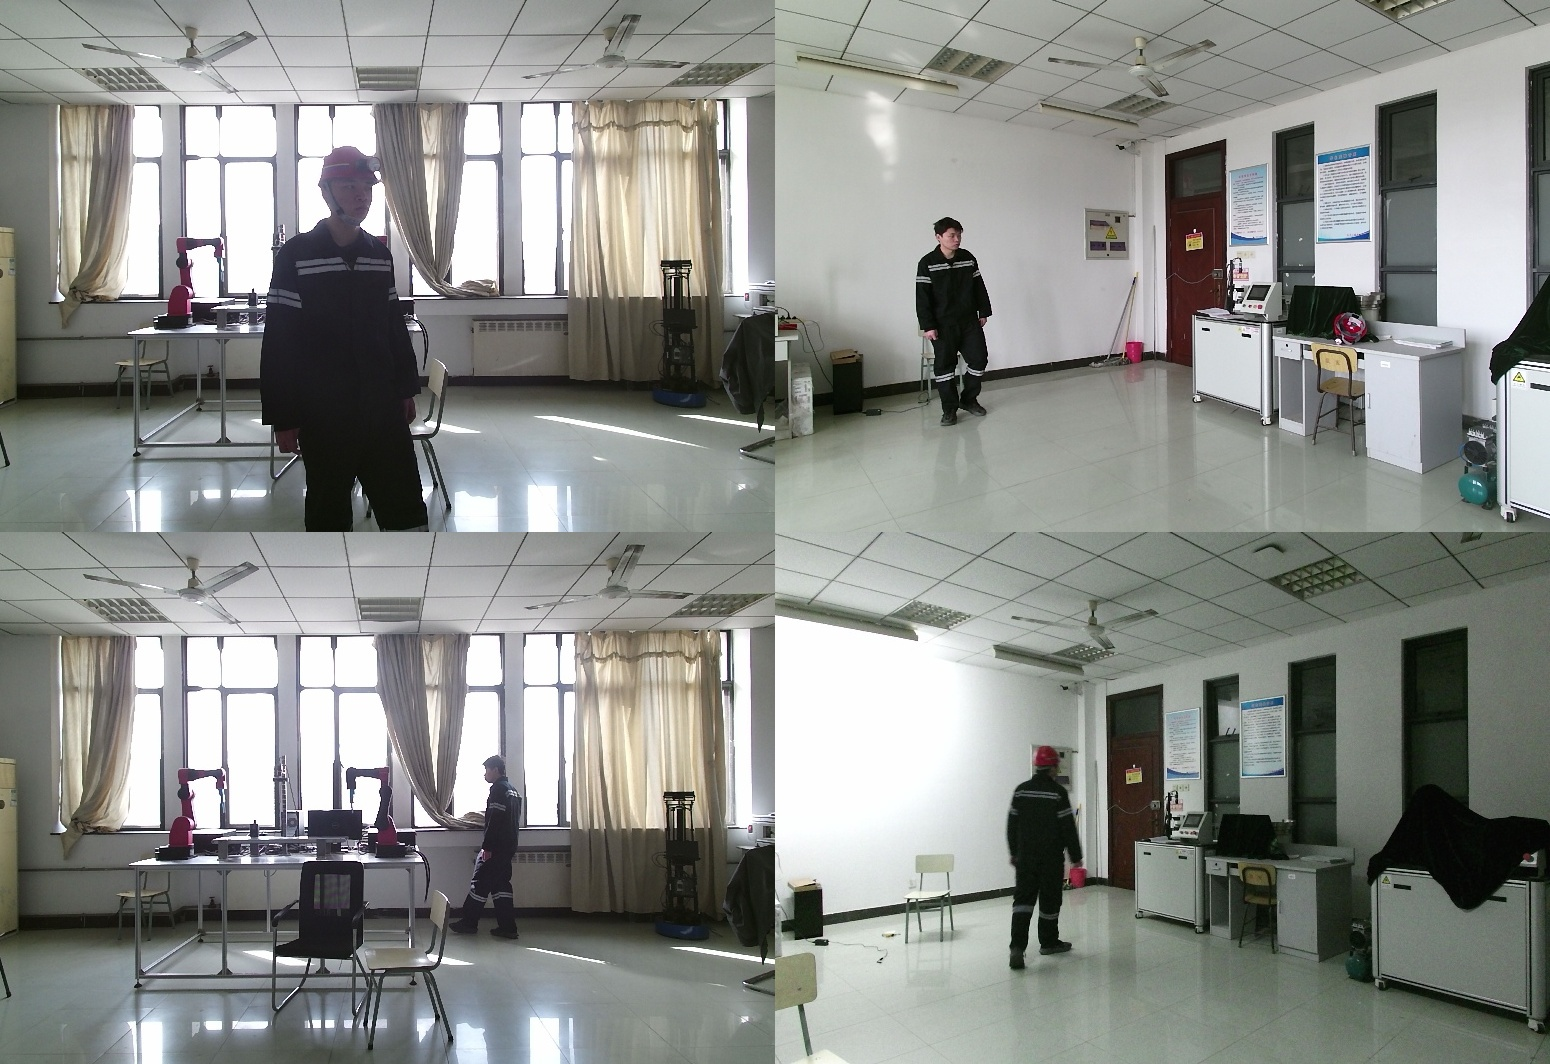person: (269, 148, 438, 532), (908, 217, 1002, 429), (997, 746, 1075, 975), (455, 758, 525, 943)
